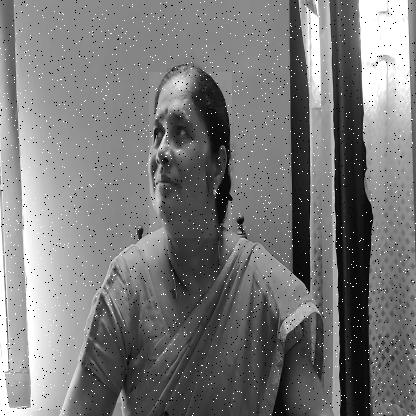Distracted: (149, 72, 232, 238)
